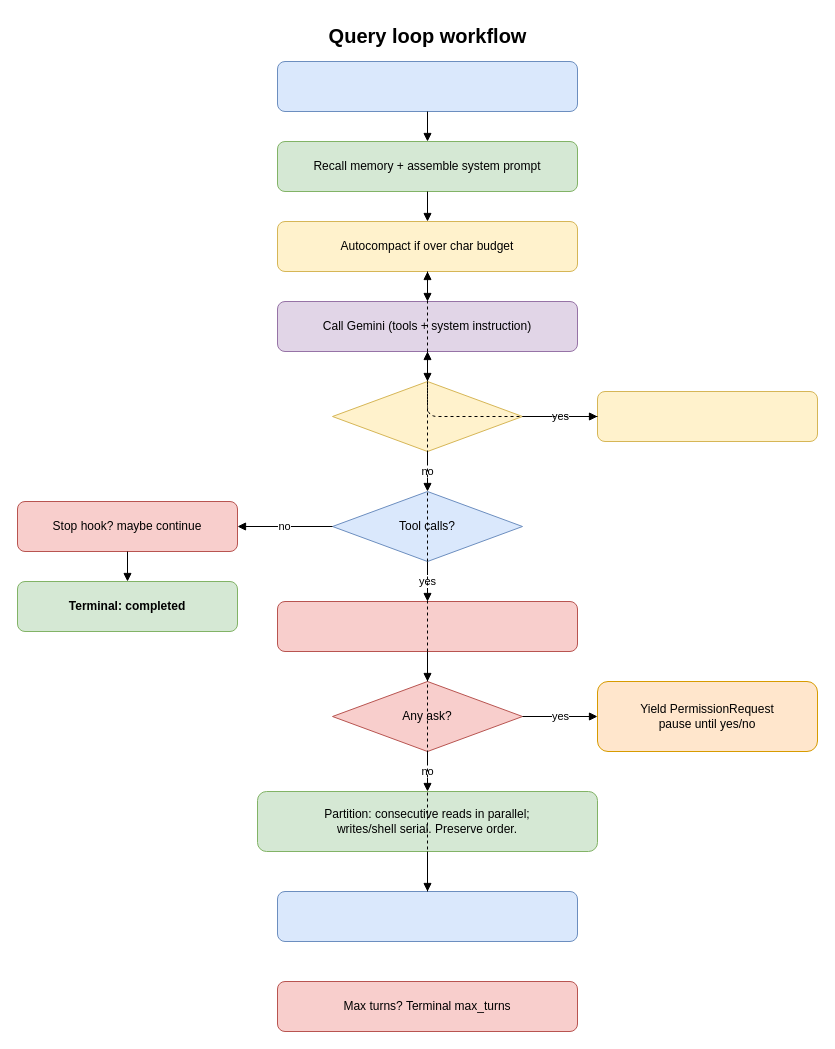
Some shapes in this 835 by 1049 pixel diagram are drawn without their labels. Each missing label, with the box of its shape:
Append tool results · PostToolUse · loop: (276, 890, 578, 942)
Escalate max_output_tokens and retry: (596, 390, 818, 442)
PreToolUse hooks + permission mode: (276, 600, 578, 652)
Truncated?: (332, 380, 522, 452)
User message (or yes/no resume): (276, 60, 578, 112)
